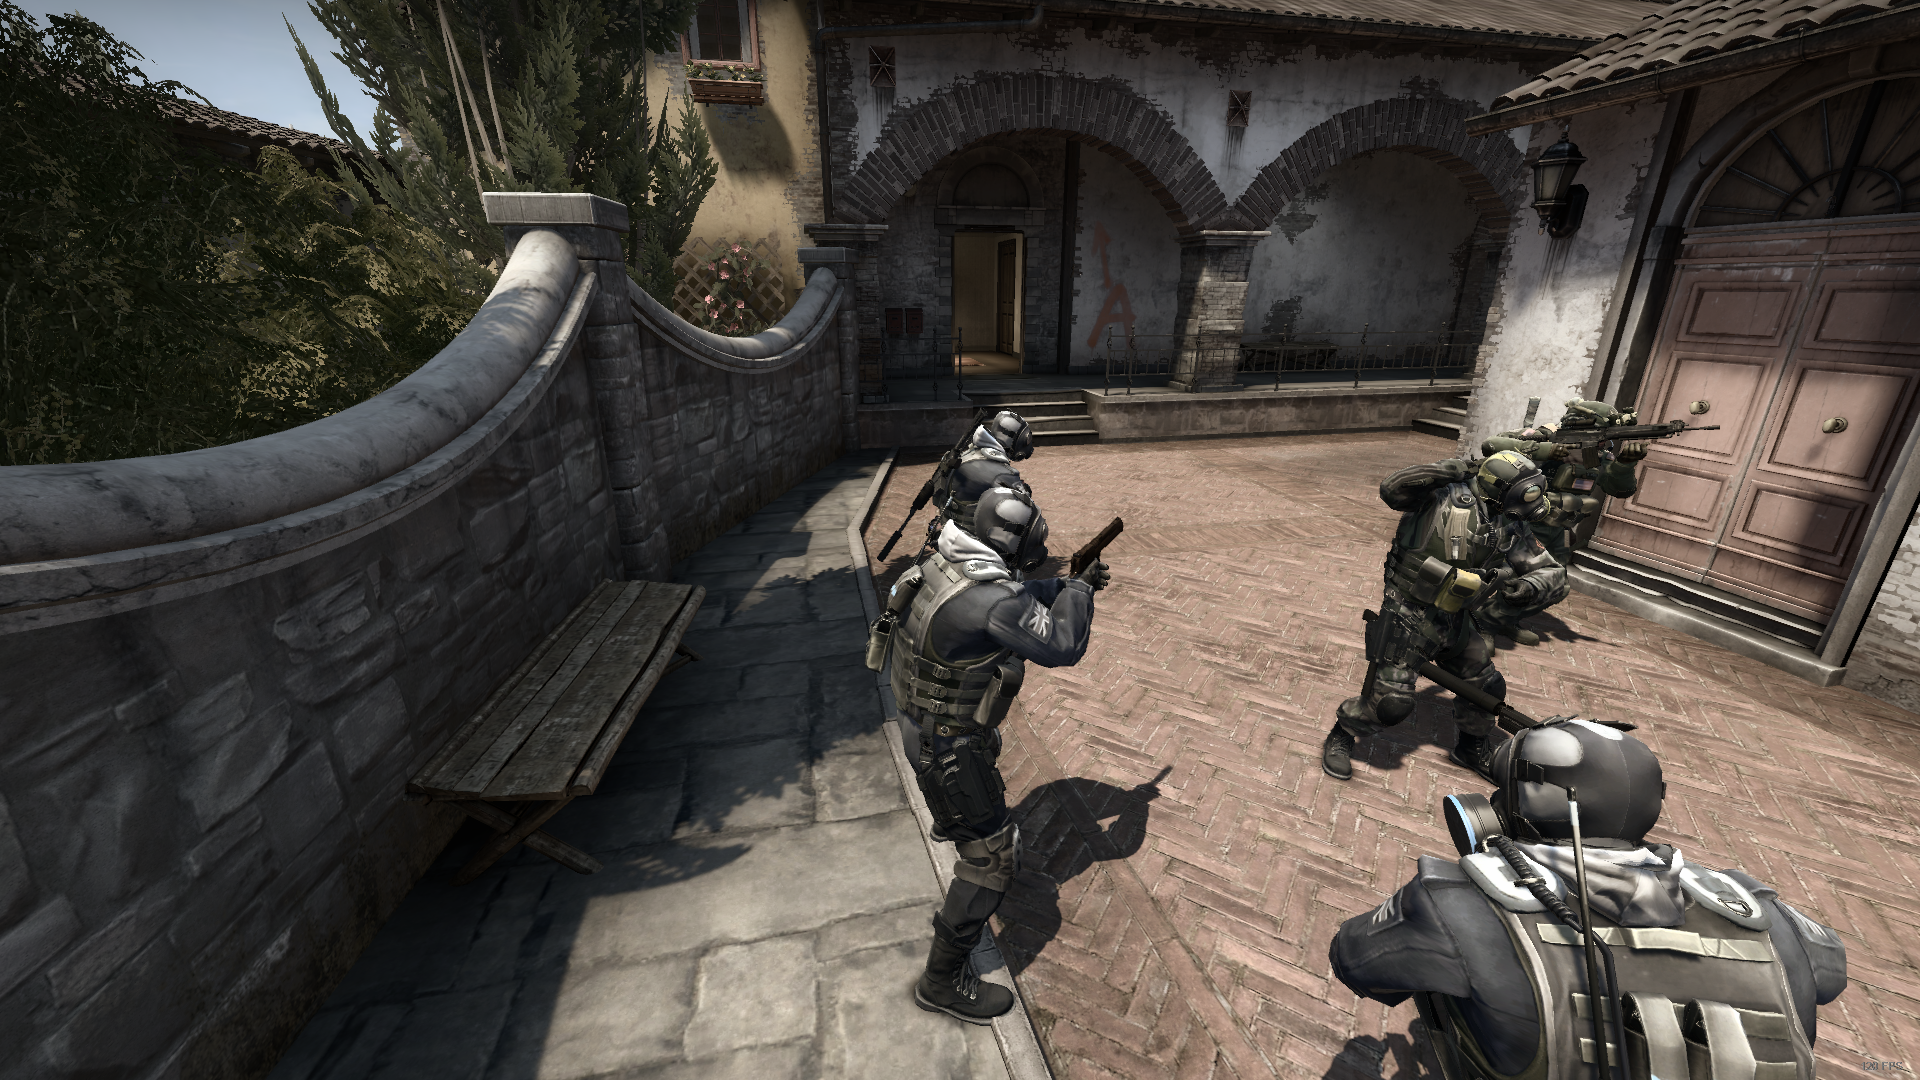ct: (1309, 711, 1870, 1080), (872, 485, 1127, 1033), (920, 407, 1042, 525)
